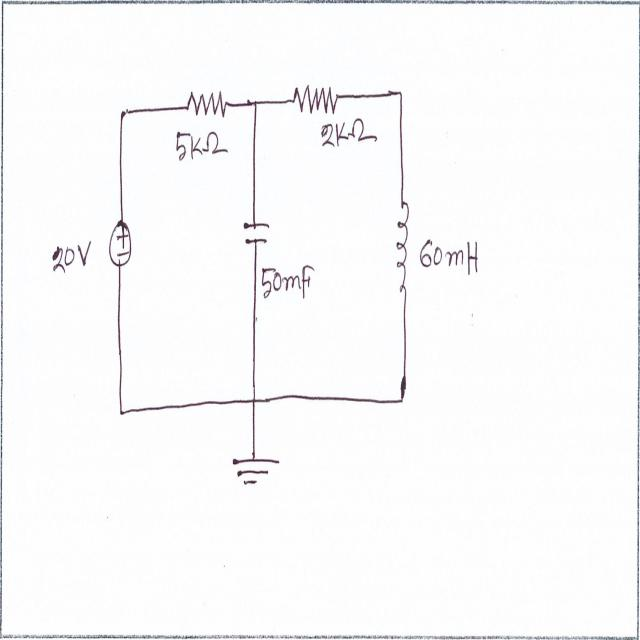capacitor: (240, 213, 274, 250)
ground: (230, 449, 283, 494)
inductor: (394, 191, 415, 305)
resistor: (290, 75, 340, 121), (183, 86, 230, 126)
voltage_source: (107, 212, 133, 274)
